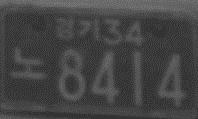1: (125, 50, 154, 106)
3: (103, 17, 122, 46)
4: (90, 49, 121, 104), (156, 52, 186, 107), (123, 20, 144, 49)
8: (56, 47, 87, 102)
경기_O: (54, 16, 102, 43)
노: (10, 46, 50, 81)
